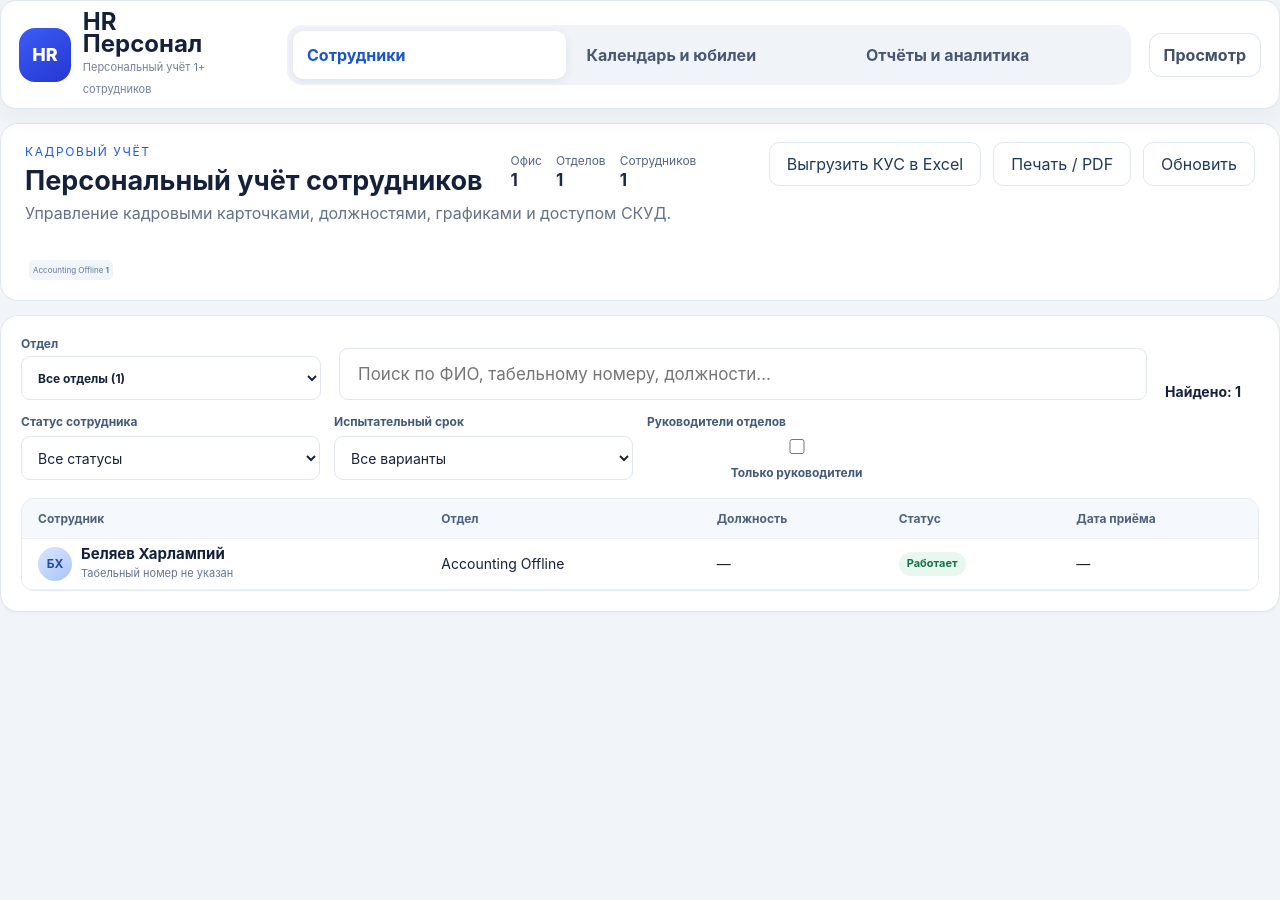
Test: Кадровое рабочее место › открывает карточку TimeTrack только для просмотра
What coordinates should you click on to do the following:
click the button "Беляев Харлампий"
I would click on:
 (136, 564)
Its box is [38,545,233,583].
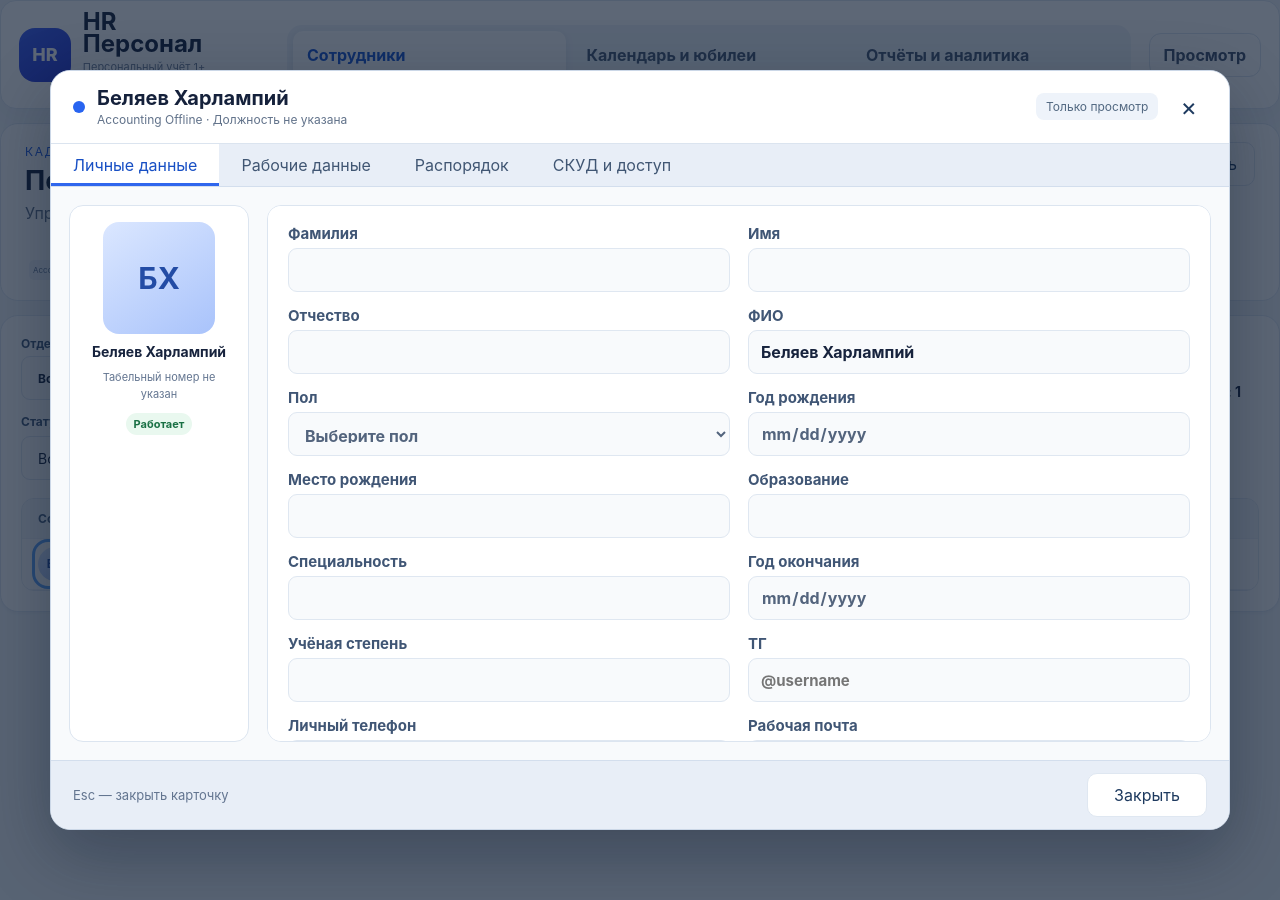
expect the text "Только просмотр" is shown: met, box [1036,93,1158,120]
